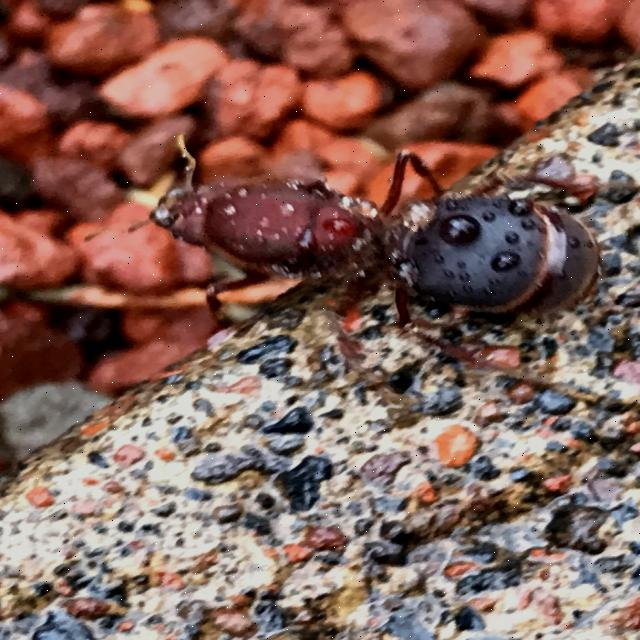Alive-Female-Dealate: (83, 133, 640, 405)
